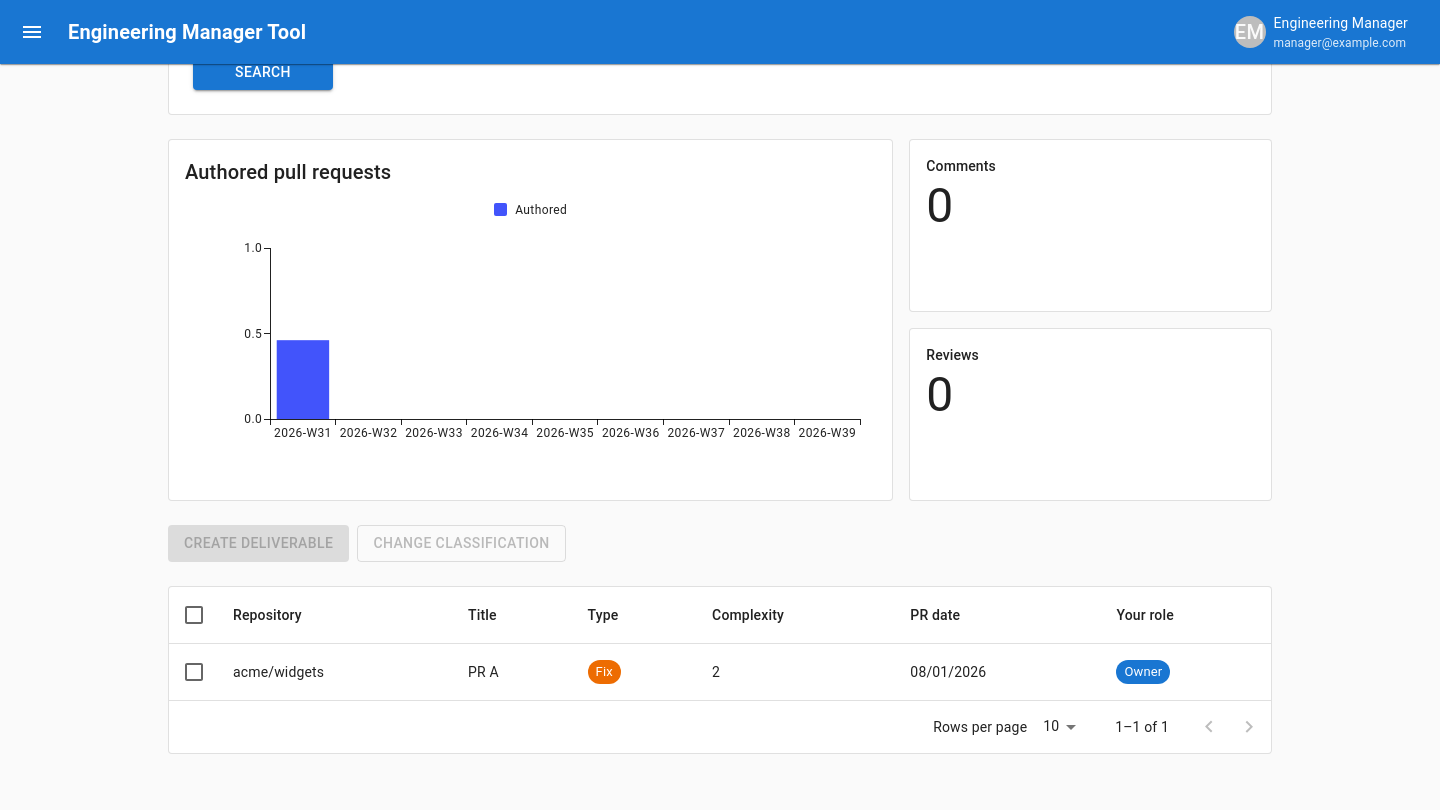
Test: 021 create deliverable confirm › shows error when create fails and does not show success link
(page scrolled)
Expected: the text "PR A" is shown, [452, 643, 572, 700]
Step 1. Click the checkbox named "Select pull request" → [194, 672], box [182, 660, 206, 684]
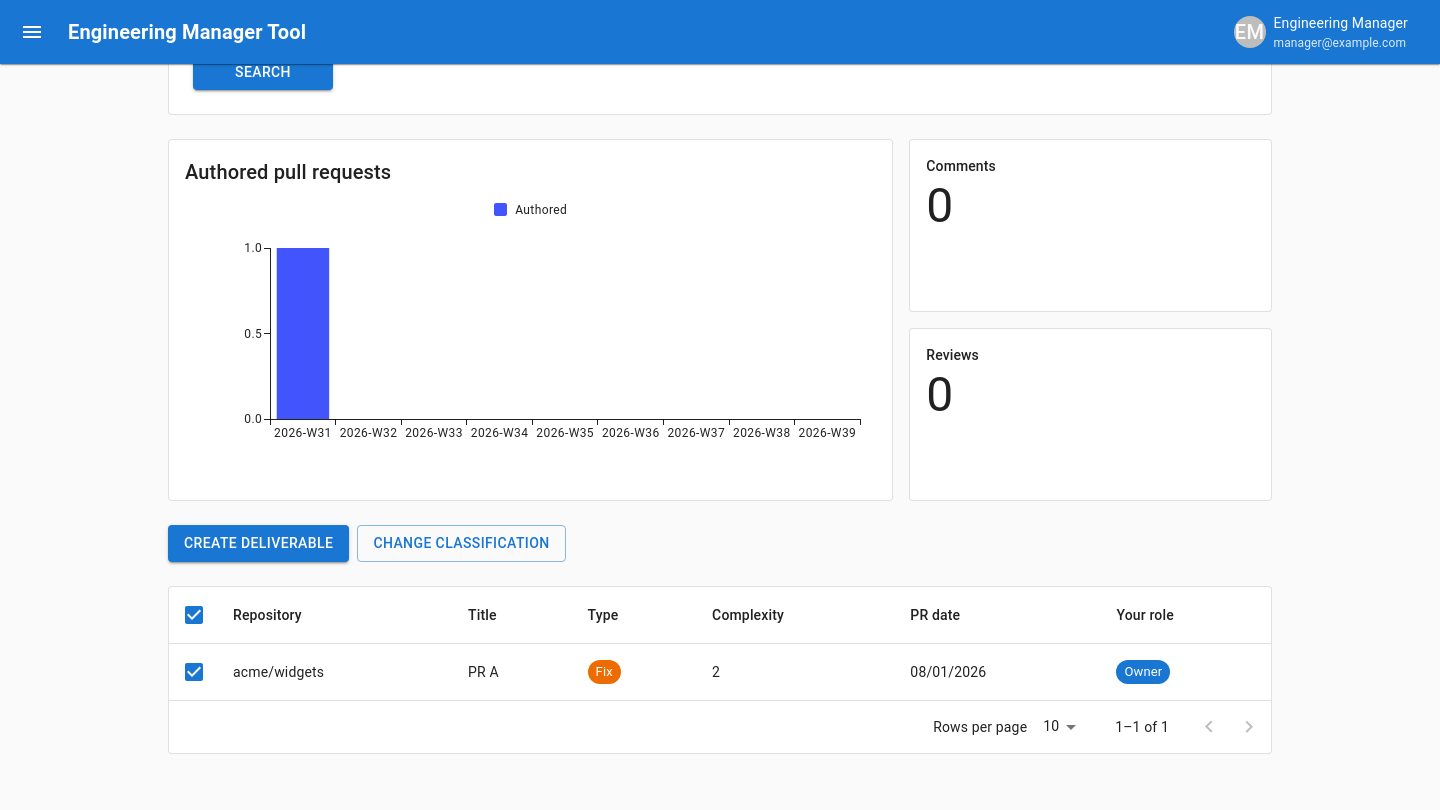
Step 2. Click the button with test id "create-deliverable-button" → [259, 544], box [168, 525, 349, 562]
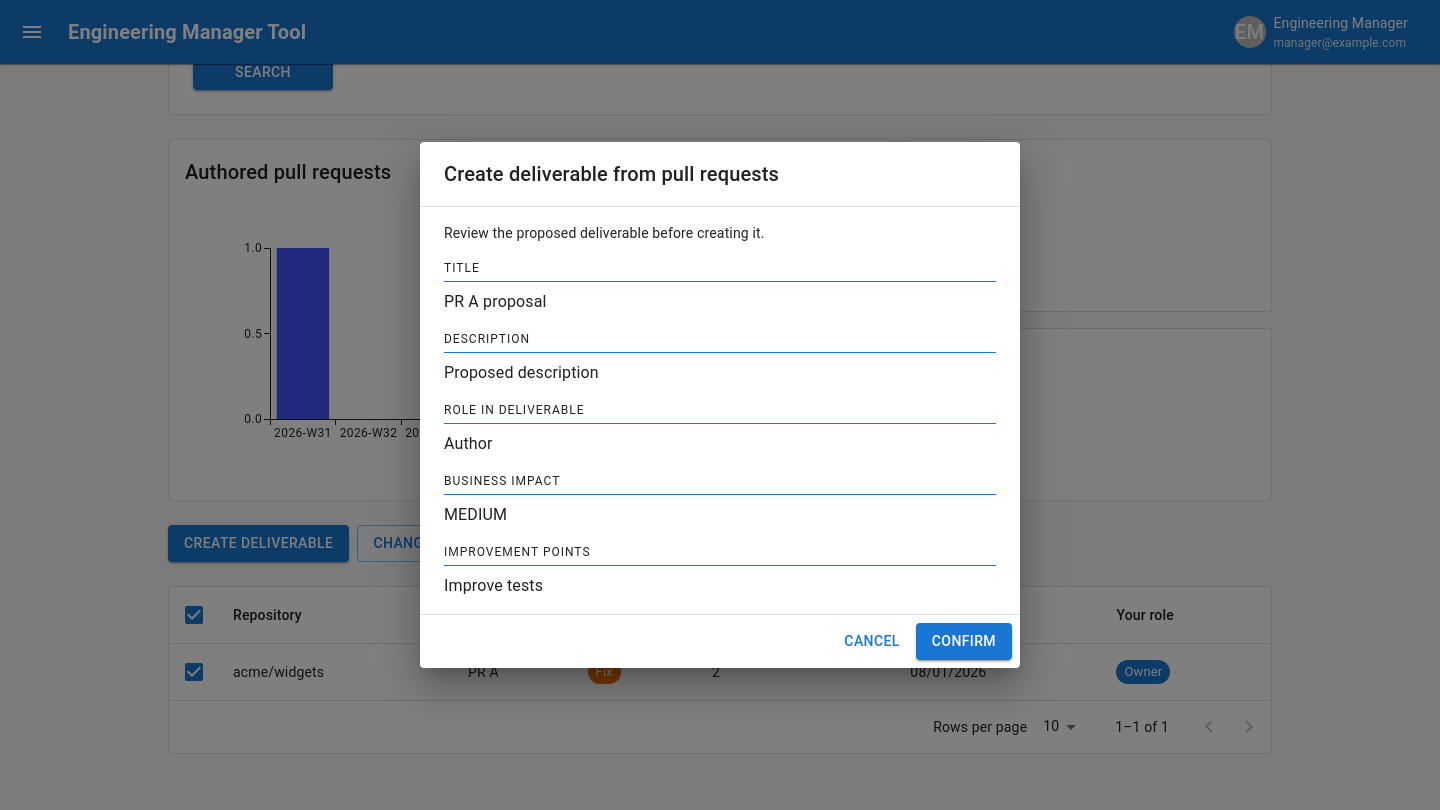
Step 3. Click the button with test id "create-deliverable-confirm" → [964, 642], box [916, 623, 1012, 660]
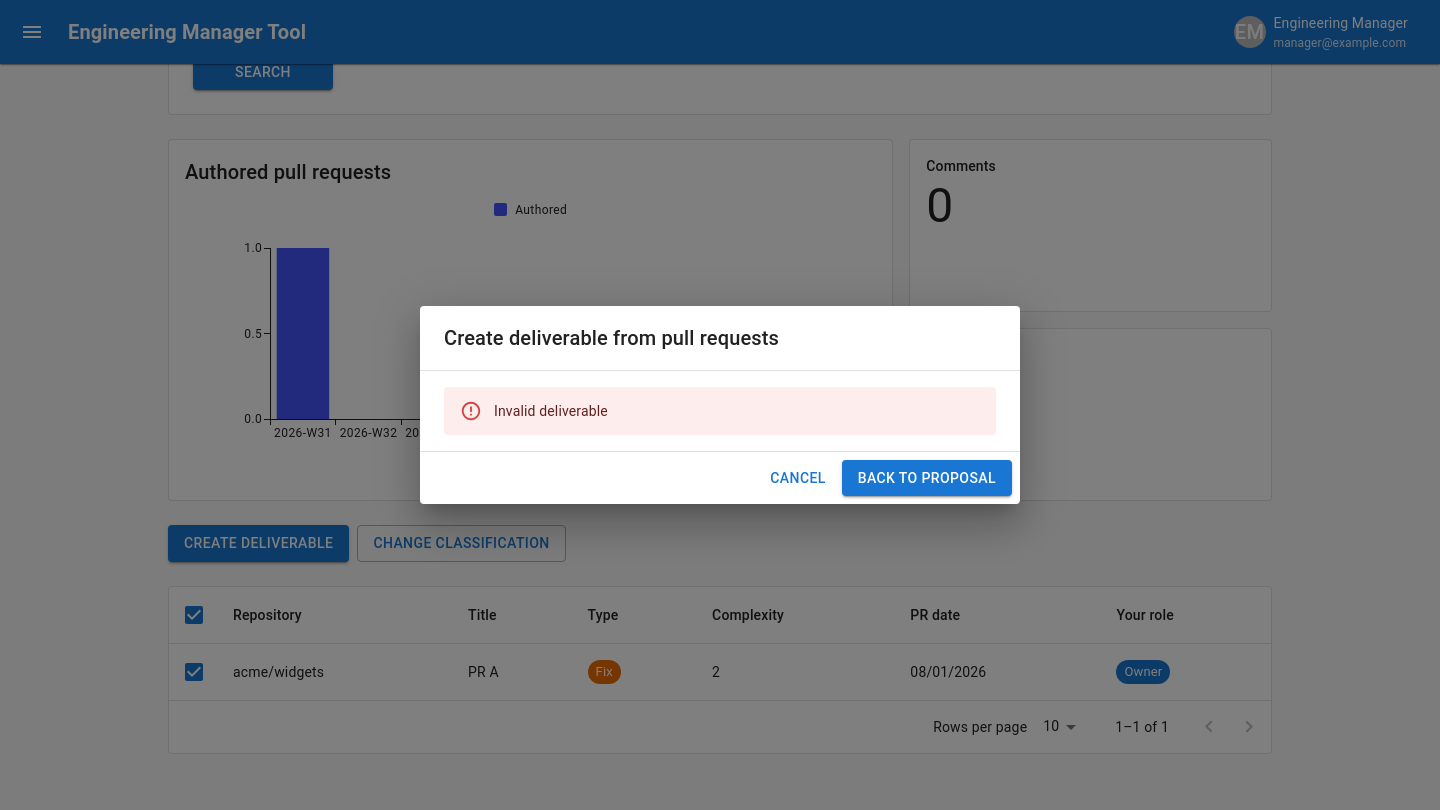
Now the message "Invalid deliverable" is shown, box [444, 387, 996, 435]
